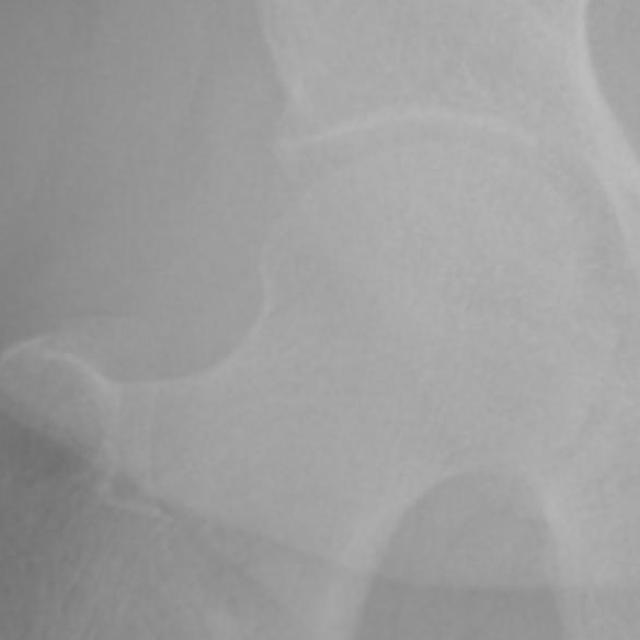Fitted_femural_head: (359, 142, 432, 359)
